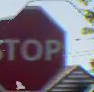Stop: (0, 7, 73, 91)
